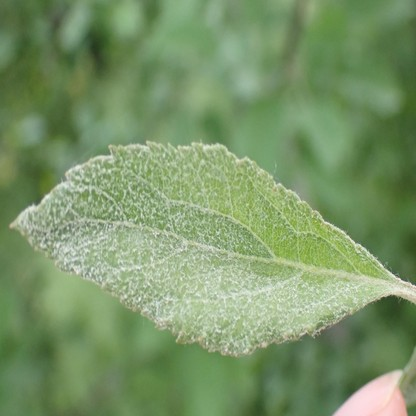powder: (10, 140, 387, 355)
